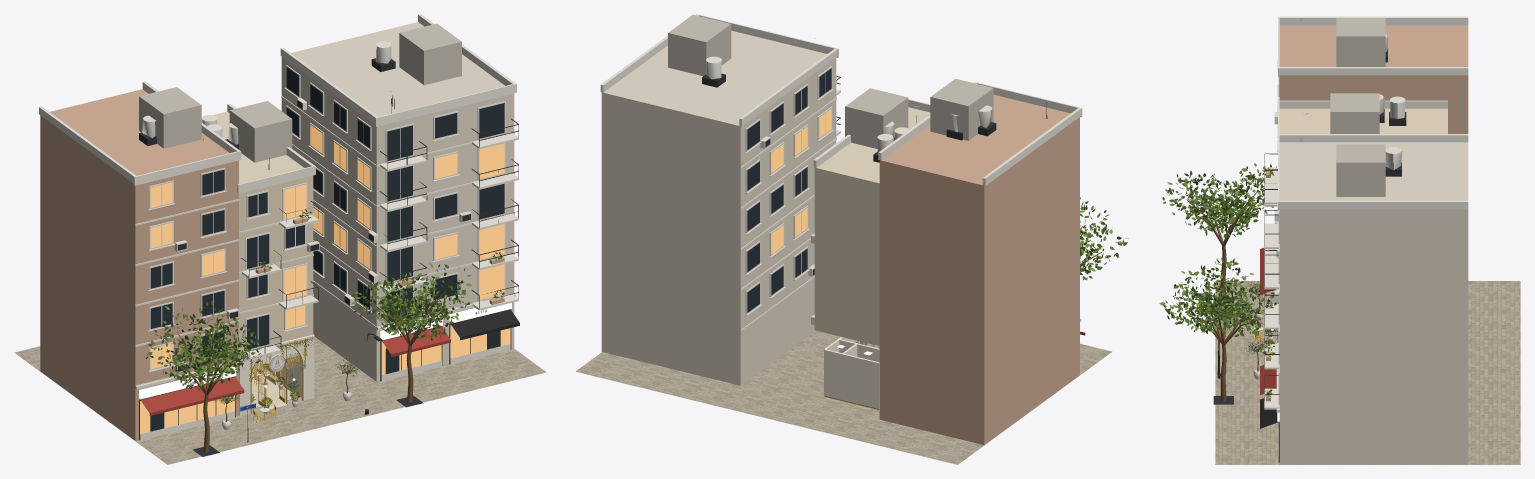
File: gallery-50_lod1.glb
3 views of the same model, side by side, from view 1: azimuth 30°, elevation 25°; view 2: azimuth 150°, elevation 25°; view 3: azimuth 270°, elevation 25° (orthographic).
Visible parts, largest first — view 1: bw5, bw1, bwtrim, win, paving, win_lit_n, bw3, facade_hi, leaf, leaf2, iron, aw_r (+7 smaller); view 2: bw1, bw5, paving, facade_hi, bwtrim, bw3, plaster, win, win_lit_n, leaf, iron; view 3: bw1, paving, bwtrim, bw5, bw3, leaf, leaf2, facade_hi, trunk, iron, aw_r.
Part boxes in pixels (<box>): bw5: <box>40,89,238,440</box>; bw1: <box>281,22,514,381</box>; bwtrim: <box>39,14,518,439</box>; win: <box>150,67,504,431</box>; paving: <box>14,337,546,464</box>; win_lit_n: <box>140,125,510,433</box>; bw3: <box>139,23,461,162</box>; facade_hi: <box>205,111,313,352</box>; leaf: <box>147,211,504,407</box>; leaf2: <box>145,209,504,408</box>; iron: <box>139,58,518,456</box>; aw_r: <box>140,326,450,415</box>; bw1: <box>601,30,836,385</box>; bw5: <box>879,94,1079,444</box>; paving: <box>576,331,1111,464</box>; facade_hi: <box>814,107,930,345</box>; bwtrim: <box>600,14,1082,331</box>; bw3: <box>668,14,993,148</box>; plaster: <box>824,337,879,409</box>; win: <box>747,68,831,312</box>; win_lit_n: <box>771,109,831,254</box>; leaf: <box>855,205,1128,342</box>; iron: <box>702,73,1047,275</box>; bw1: <box>1279,142,1468,464</box>; paving: <box>1215,281,1520,464</box>; bwtrim: <box>1264,16,1468,461</box>; bw5: <box>1279,25,1468,133</box>; bw3: <box>1330,18,1385,196</box>; leaf: <box>1159,163,1277,397</box>; leaf2: <box>1163,164,1278,395</box>; facade_hi: <box>1279,108,1447,133</box>; trunk: <box>1186,192,1271,401</box>; iron: <box>1191,48,1406,462</box>; aw_r: <box>1260,248,1276,395</box>.
Size of the model in its own units: 30.66 by 22.09 by 24.89.
Materials: 66 (17 with a texture image).
